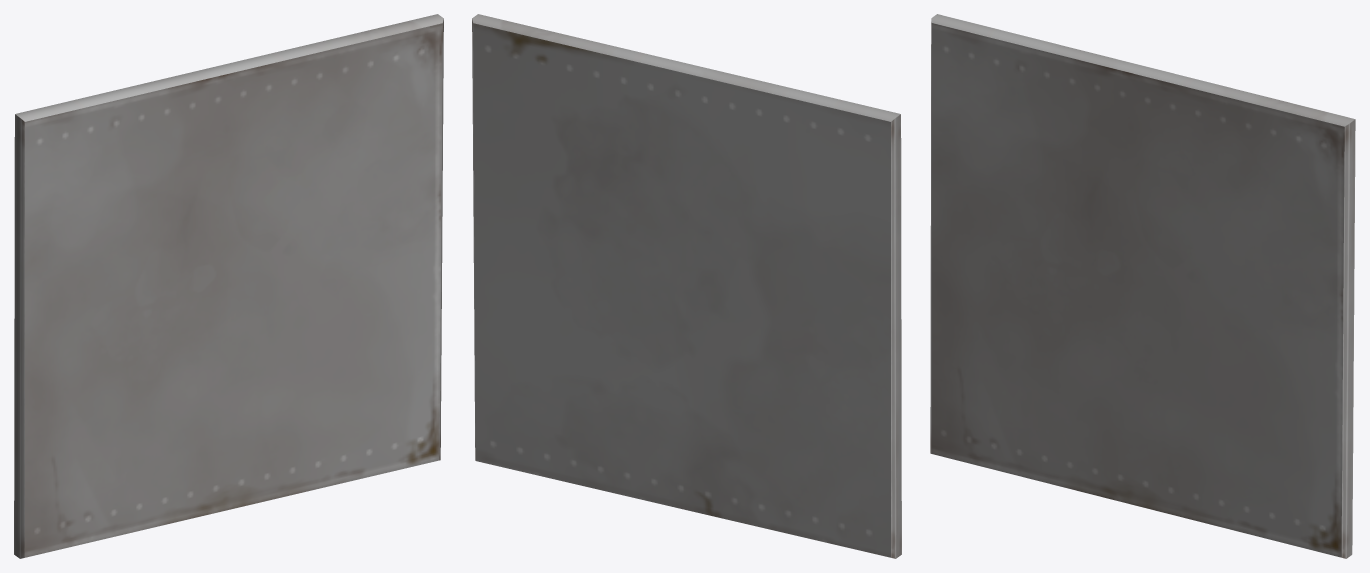
Rendered from Hub_Floor4.FBX.
3 views of the same model, side by side, from view 1: azimuth 30°, elevation 25°; view 2: azimuth 150°, elevation 25°; view 3: azimuth 330°, elevation 25° (orthographic).
Parts seen in each view (by area): view 1: Floor4; view 2: Floor4; view 3: Floor4.
Boxes of the visible parts, box(x1,y1,x2,y2) form: Floor4: box(14, 14, 443, 558); Floor4: box(472, 14, 901, 558); Floor4: box(930, 14, 1355, 558).
Size of the model in its own units: 5.29 by 5.3 by 0.2286.
